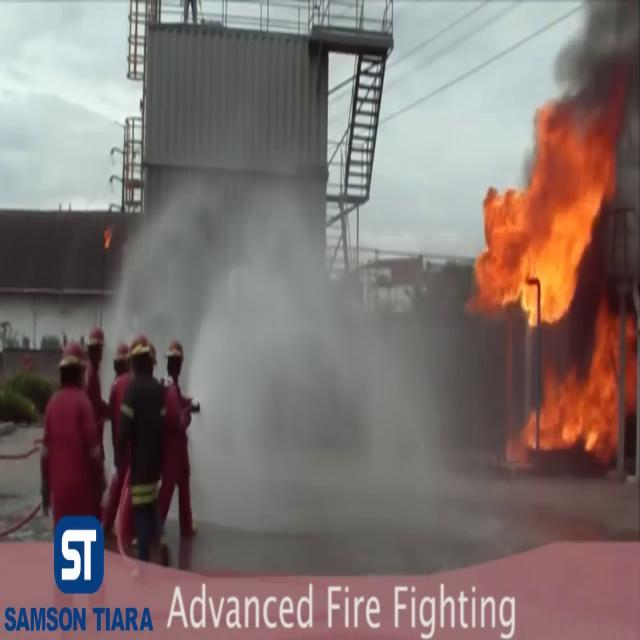Fire: (469, 119, 616, 328)
Smoke: (169, 166, 496, 550), (532, 1, 640, 163)
